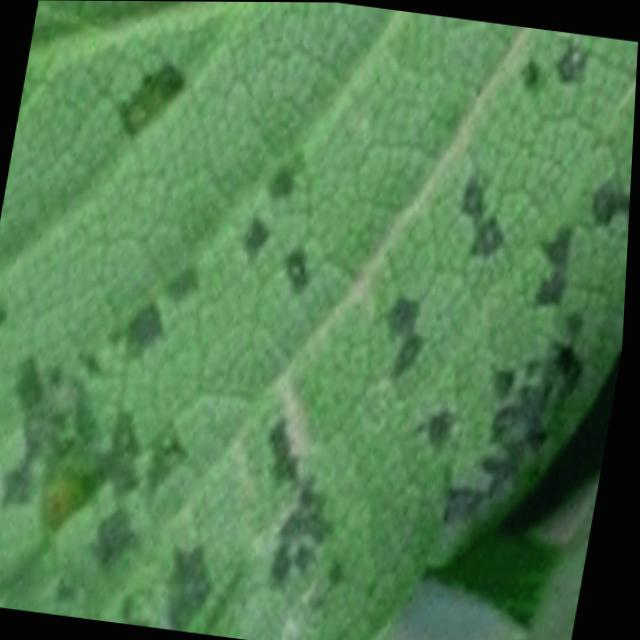Angular Leafspot: (0, 27, 638, 640)
